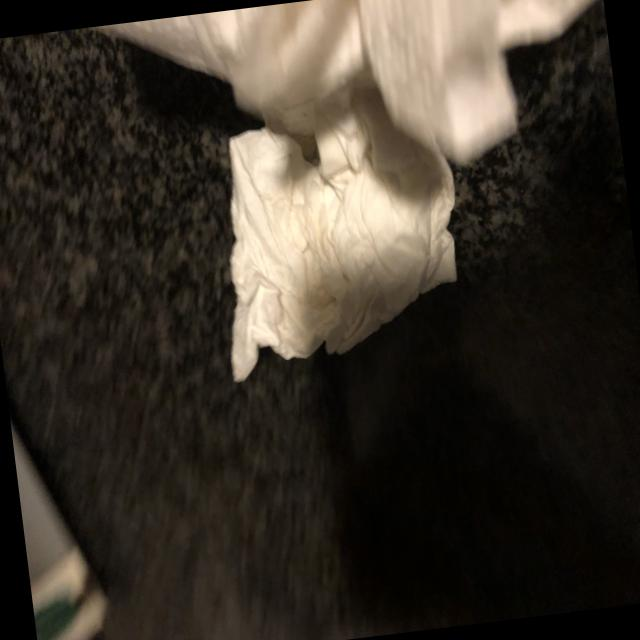organic waste: (189, 72, 482, 390)
